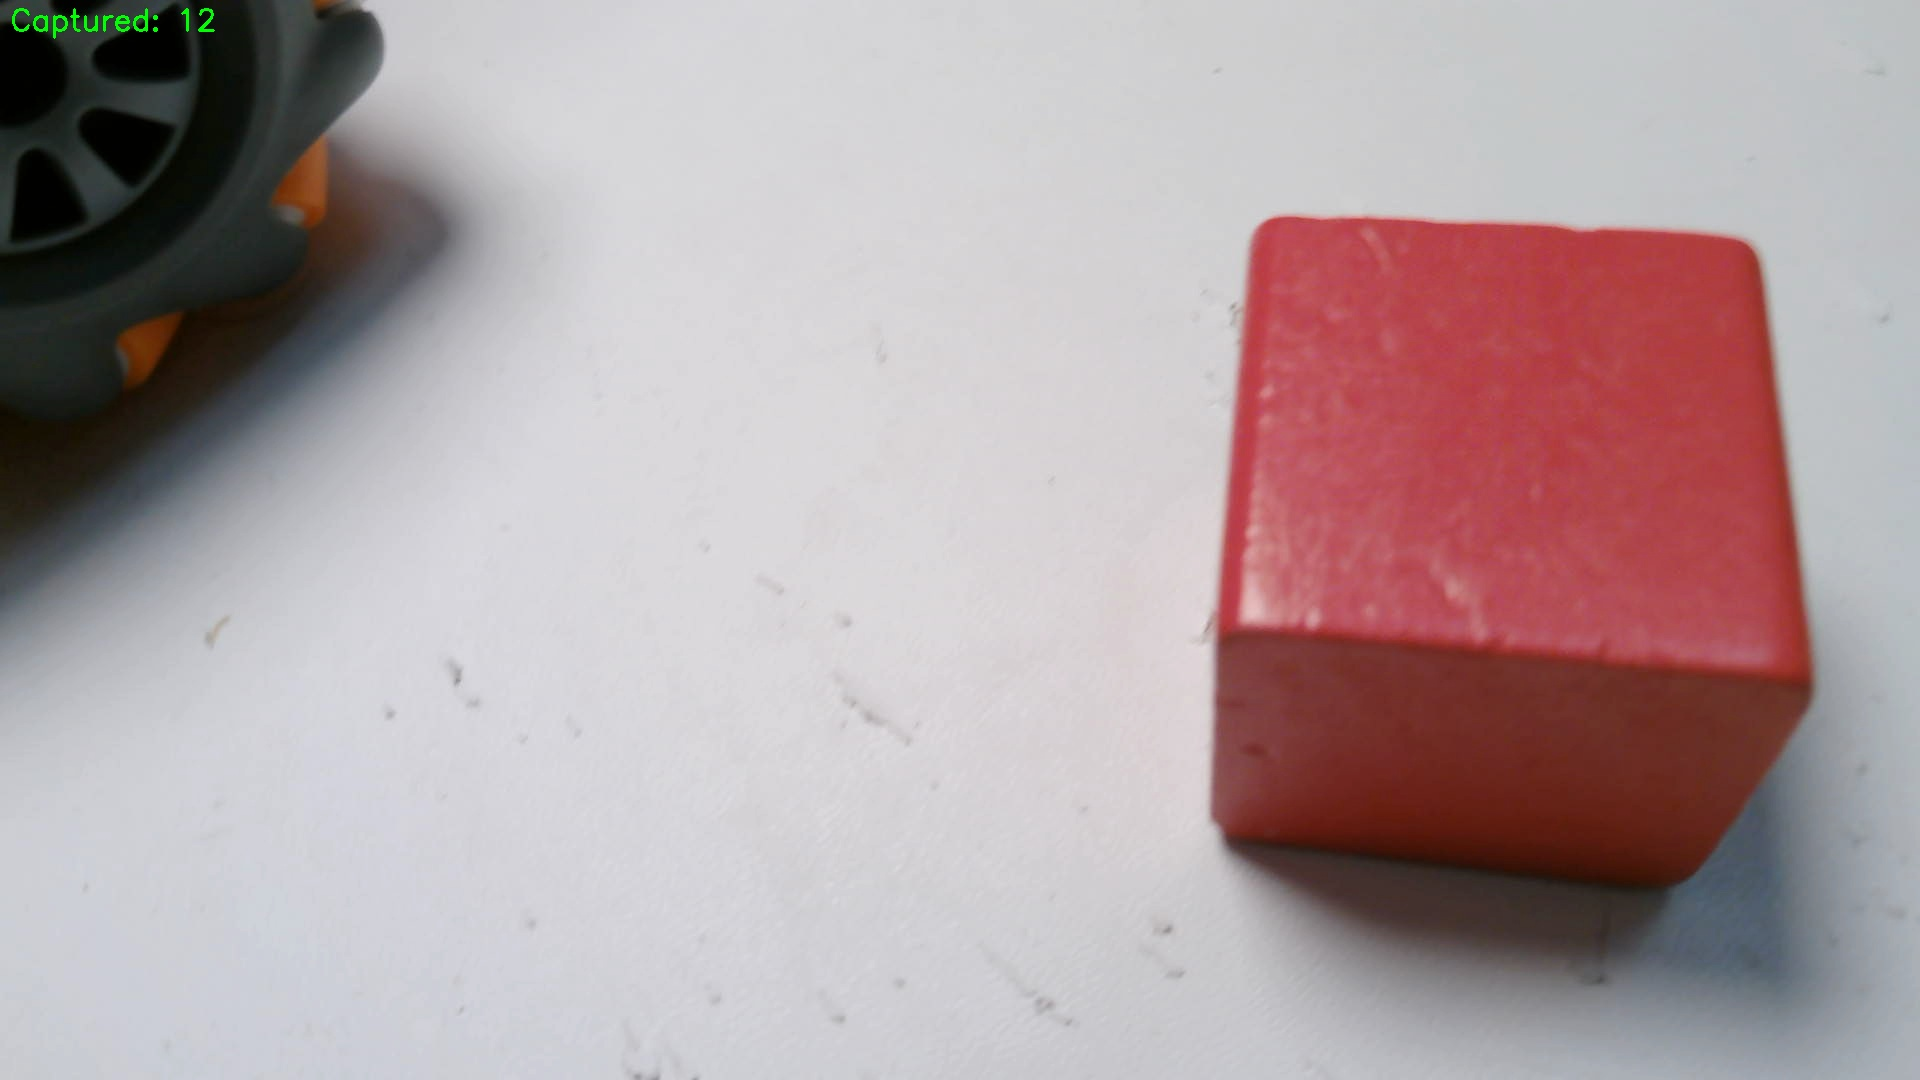red: (1215, 216, 1811, 887)
